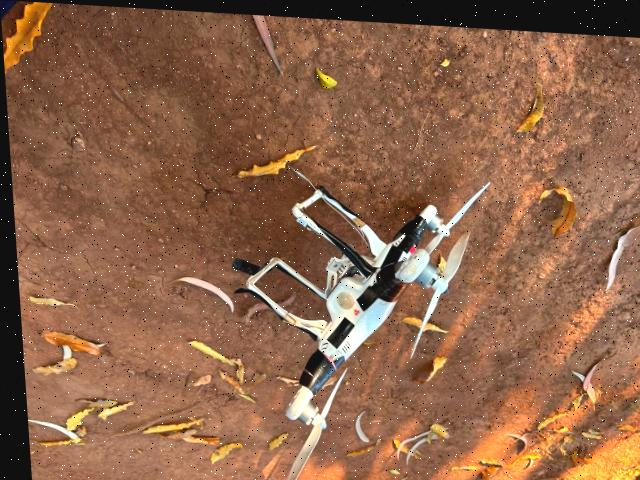drone: (154, 79, 541, 480)
